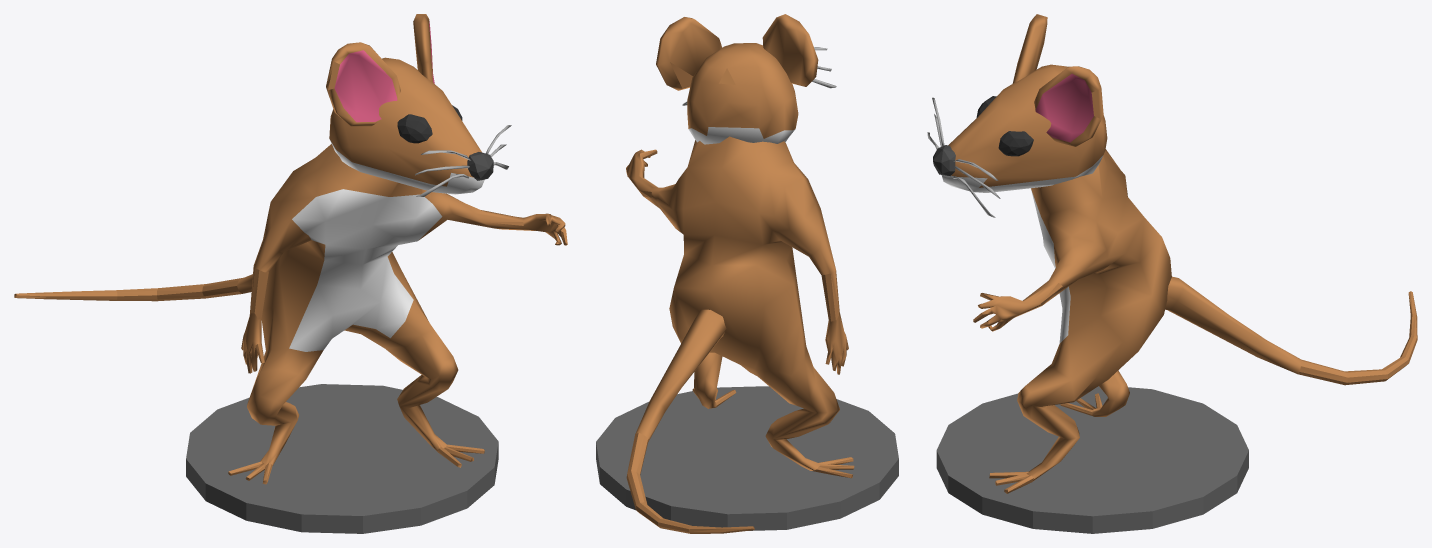
The model's file is WhiskersLOD1.glb.
3 renders of one model, left to right at view 1: azimuth 30°, elevation 25°; view 2: azimuth 150°, elevation 25°; view 3: azimuth 270°, elevation 25°, orthographic. The views are drawn at different scales.
Parts seen in each view (by area): view 1: WhiskersLOD1; view 2: WhiskersLOD1; view 3: WhiskersLOD1.
Part boxes in pixels (x1=…): WhiskersLOD1: x1=14, y1=14, x2=567, y2=533; WhiskersLOD1: x1=596, y1=14, x2=898, y2=533; WhiskersLOD1: x1=927, y1=14, x2=1417, y2=533.
Size of the model in its own units: 1.49 by 1.89 by 1.89.
